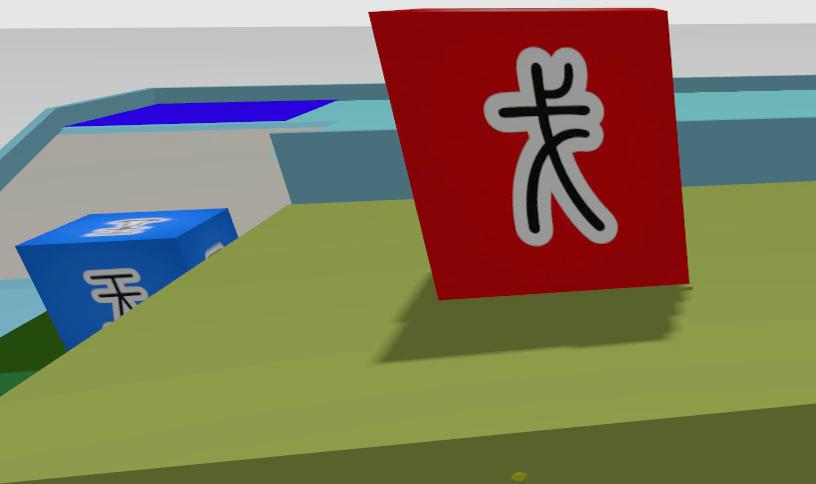KFS_FAKE: (370, 8, 688, 299), (483, 47, 617, 246)
KFS_REAL: (16, 208, 237, 348), (484, 47, 616, 245), (83, 268, 148, 319), (85, 217, 170, 237)
